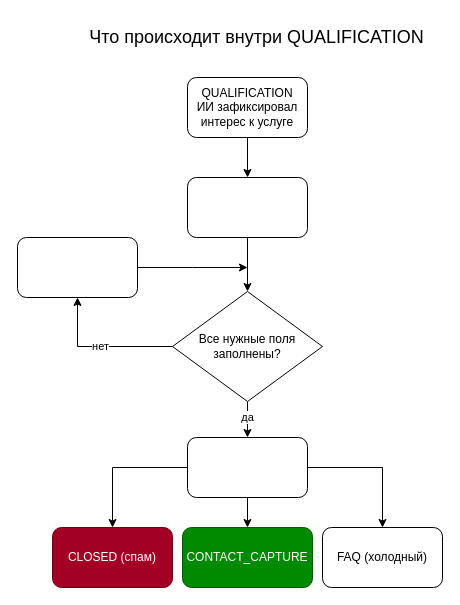
This 460x605 diagram has some shape labels left out. The box of each missing label's shape, as (x1, y1, x2, y2) in pixels:
Задаём уточняющие вопросы: (16, 236, 138, 298)
Извлекаем данные ИИ парсит сроки, бюджет, прочие детали: (186, 176, 308, 238)
Оцениваем качество лида: (186, 436, 308, 498)
